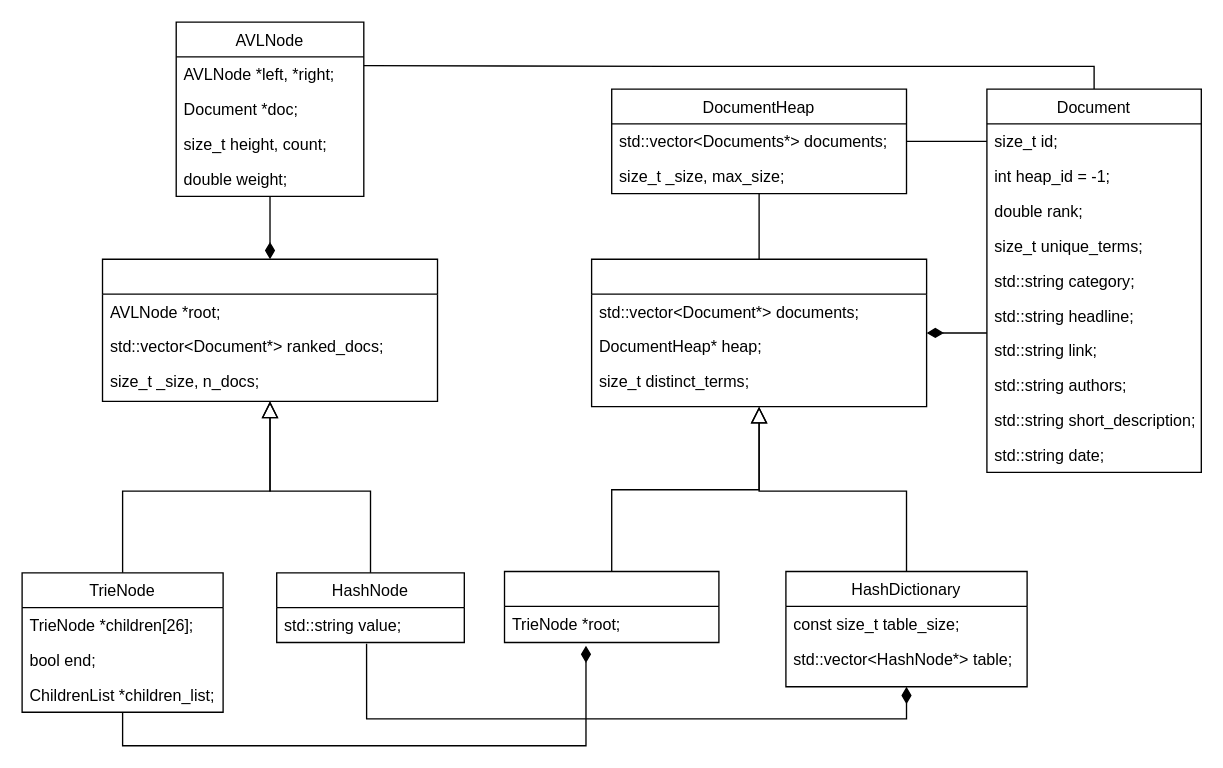
Some shapes in this 1223 by 768 pixel diagram are drawn without their labels. The shapes that lost their labels are listed below. From the top down, each one's box as (x1, y1, x2, y2) in pixels, then its label:
(101, 258, 438, 401): DictNode
(590, 258, 927, 407): Dictionary
(503, 570, 719, 643): TRIEDictionary
